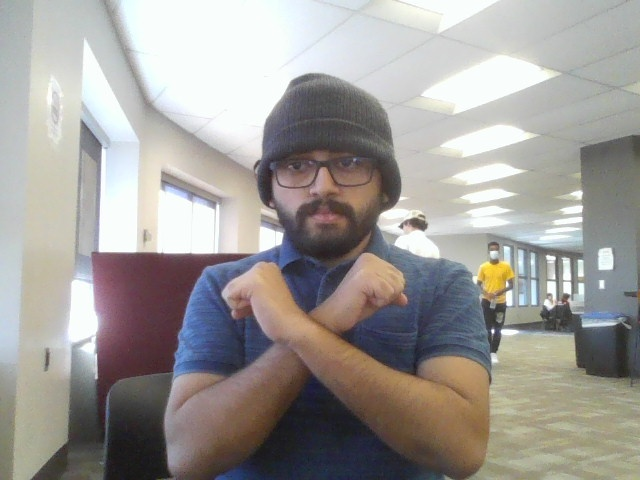start: (207, 251, 444, 457)
